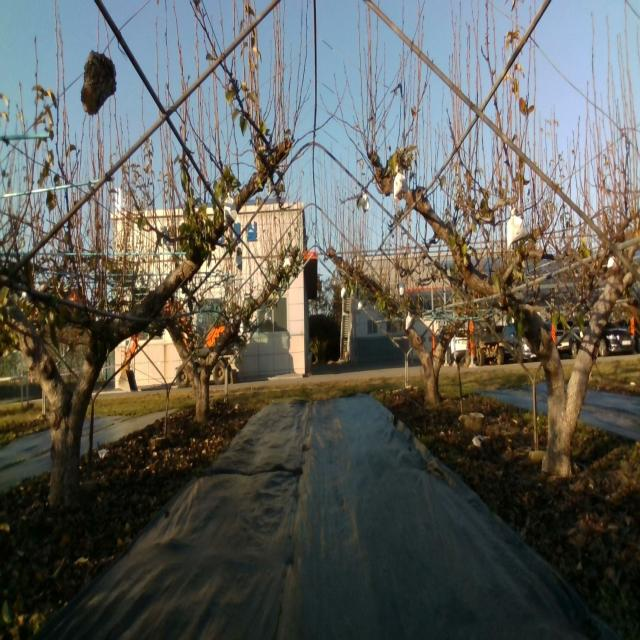pearbags: (507, 206, 526, 247), (222, 194, 239, 230), (394, 165, 409, 199), (196, 310, 207, 330)
